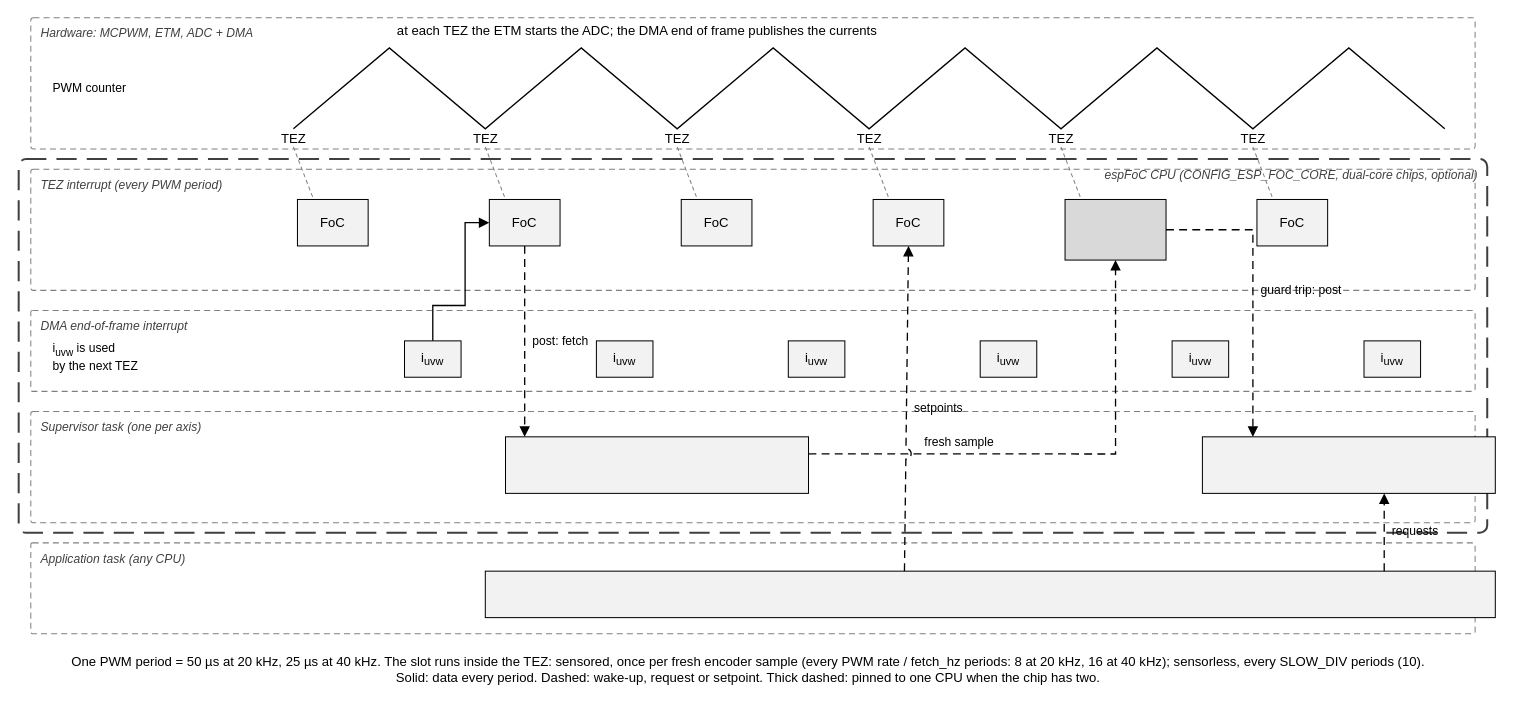
The diagram is 1513 pixels wide and 707 high, and some of its shapes have lost their labels. The shapes that lost their labels are listed below. From the top down, each one's centre as x and y in pixels, then its label:
At point (1115, 229): "FoC + slot".
At point (656, 464): "encoder fetch (I2C) + PLL update (sensored)".
At point (1348, 464): "state machine, start-up (sensorless), on_event callbacks".
At point (989, 594): "init, run / stop, setters, getters, esp_foc_sleep_ms()".
